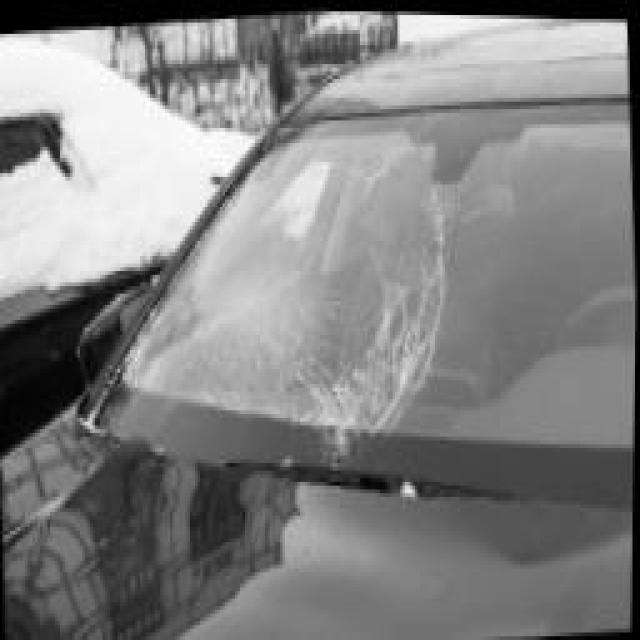Windshield: (92, 94, 499, 459)
